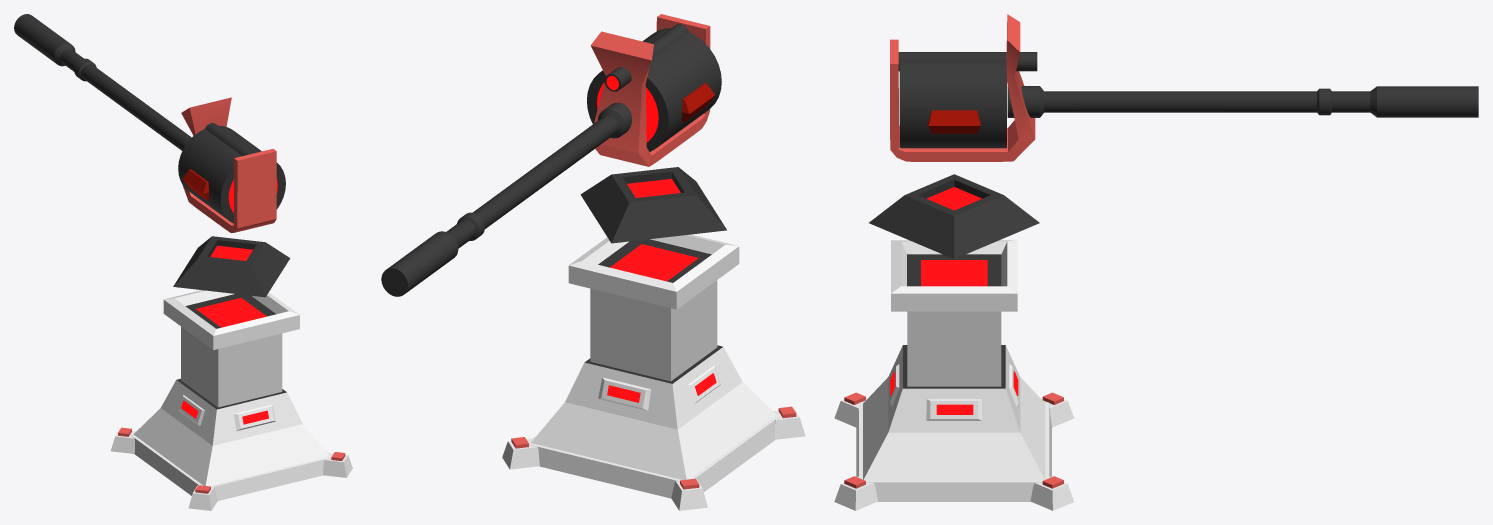
The model's file is snipertower.fbx.
The picture shows the model from 3 angles, left to right: view 1: azimuth 30°, elevation 25°; view 2: azimuth 150°, elevation 25°; view 3: azimuth 270°, elevation 25°; orthographic projection. The views are drawn at different scales.
Visible parts, largest first — view 1: Cube.042, Cylinder, Cube, Cube.001, Cube.055, Cube.049, Cube.047, Cube.043; view 2: Cube.042, Cylinder, Cube, Cube.001, Cube.057, Cube.045, Cube.043, Cube.047, Cube.051; view 3: Cube.042, Cylinder, Cube.001, Cube, Cube.049, Cube.045, Cube.053.
Part boxes in pixels (left/top/right/bottom): Cube.042: left=130, top=290, right=331, bottom=500; Cylinder: left=14, top=14, right=285, bottom=232; Cube: left=181, top=326, right=282, bottom=407; Cube.001: left=173, top=236, right=290, bottom=297; Cube.055: left=234, top=404, right=276, bottom=430; Cube.049: left=323, top=453, right=352, bottom=477; Cube.047: left=188, top=485, right=217, bottom=510; Cube.043: left=110, top=429, right=135, bottom=453; Cube.042: left=528, top=234, right=780, bottom=498; Cylinder: left=381, top=14, right=721, bottom=296; Cube: left=590, top=280, right=717, bottom=381; Cube.001: left=580, top=167, right=726, bottom=243; Cube.057: left=598, top=377, right=651, bottom=410; Cube.045: left=502, top=438, right=539, bottom=469; Cube.043: left=671, top=478, right=707, bottom=510; Cube.047: left=773, top=409, right=805, bottom=439; Cube.051: left=687, top=365, right=720, bottom=404; Cube.042: left=856, top=240, right=1051, bottom=501; Cylinder: left=890, top=14, right=1478, bottom=161; Cube.001: left=869, top=174, right=1039, bottom=259; Cube: left=907, top=311, right=1001, bottom=386; Cube.049: left=834, top=476, right=877, bottom=510; Cube.045: left=1030, top=476, right=1073, bottom=510; Cube.053: left=926, top=399, right=982, bottom=420.
Size of the model in its own units: 228 by 453 by 610.
